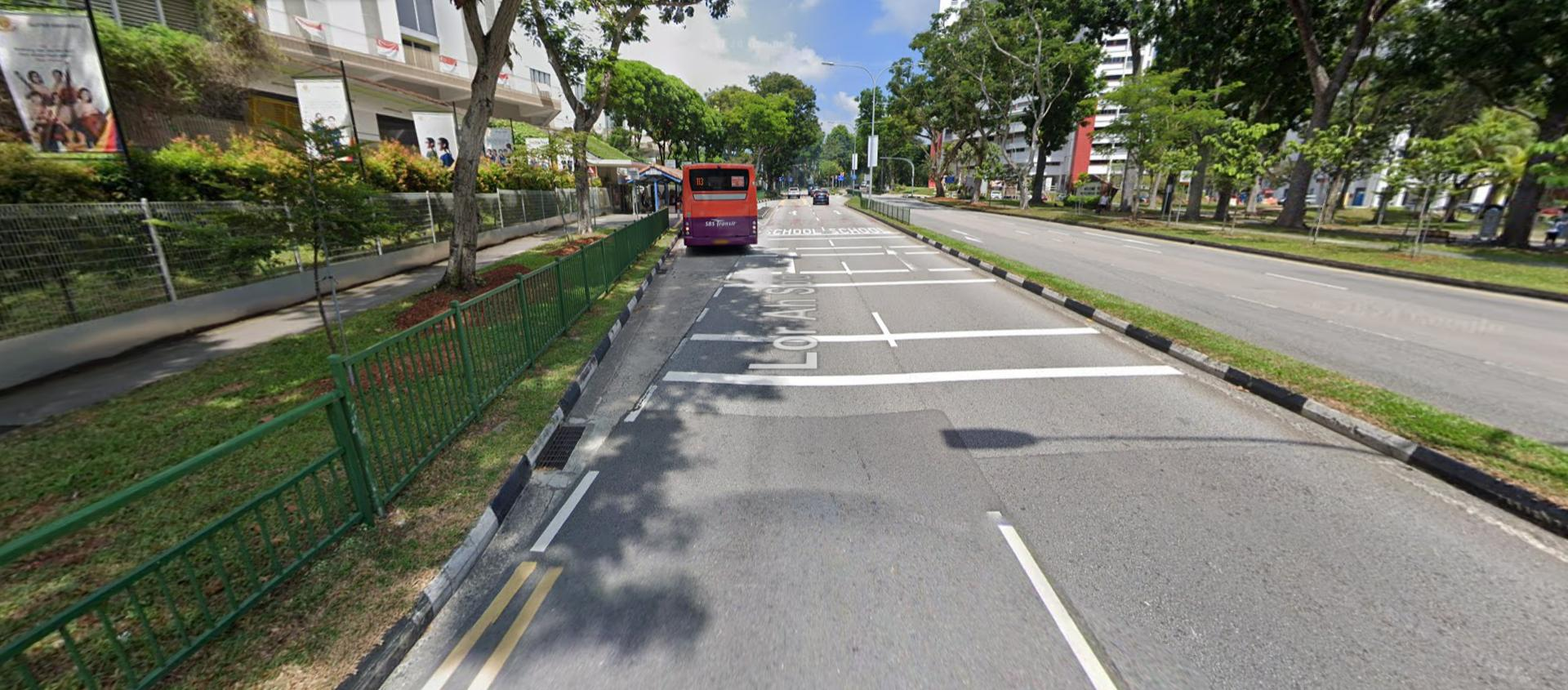normal: (533, 425, 589, 472)
